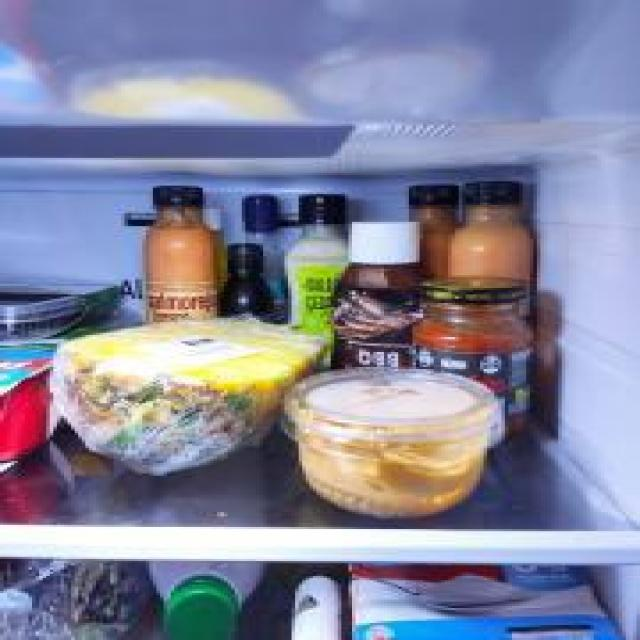asparagus: (0, 559, 139, 640)
humus: (279, 368, 503, 517)
milk: (148, 559, 268, 640)
pineapple: (49, 313, 330, 478)
tomato_sauce: (412, 278, 537, 440)
